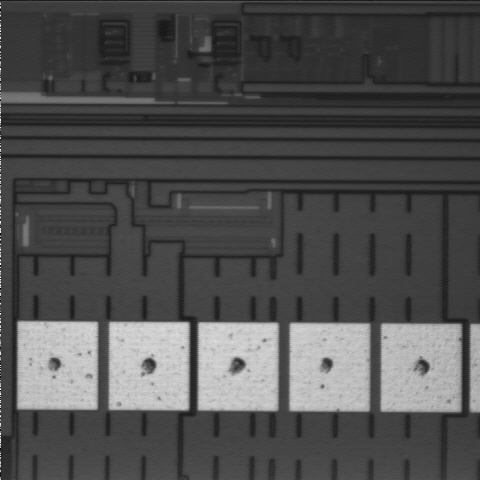pad: (109, 322, 189, 410), (198, 323, 278, 410), (18, 322, 97, 409), (290, 324, 369, 411), (381, 324, 459, 411)
